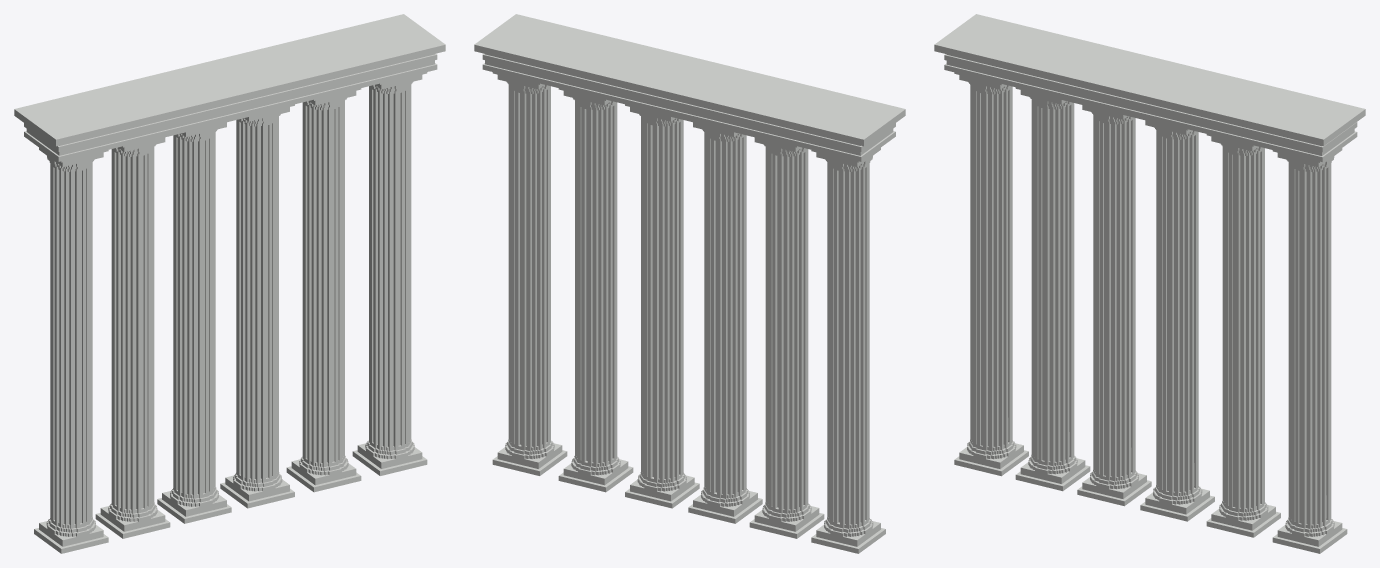
The model's file is temple-pillars.glb.
3 renders of one model, left to right at view 1: azimuth 30°, elevation 25°; view 2: azimuth 150°, elevation 25°; view 3: azimuth 330°, elevation 25°, orthographic.
Parts seen in each view (by area): view 1: Polygon; view 2: Polygon; view 3: Polygon.
Boxes of the visible parts, x1,y1,x2,y2 form: Polygon: (14,14,445,553); Polygon: (474,14,905,553); Polygon: (934,14,1365,553).
Size of the model in its own units: 24.7 by 25.6 by 4.6.
Materials: 1 (1 with a texture image).
